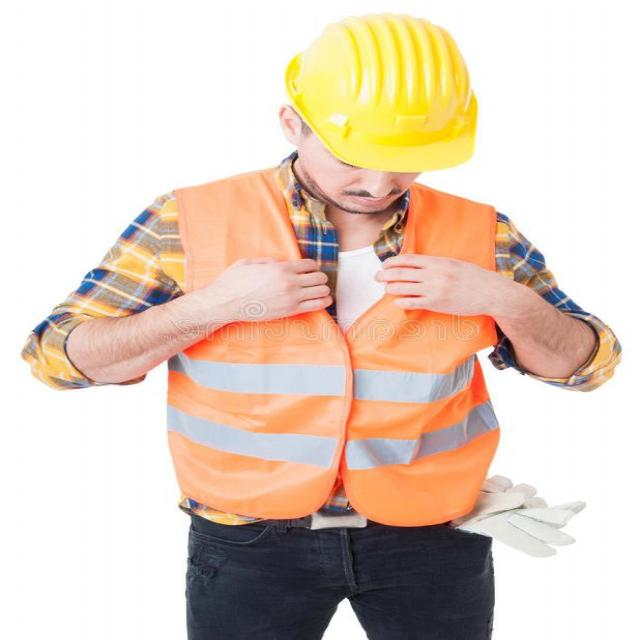Reflective-Jacket: (149, 179, 508, 524)
Safety-Helmet: (274, 10, 483, 171)
